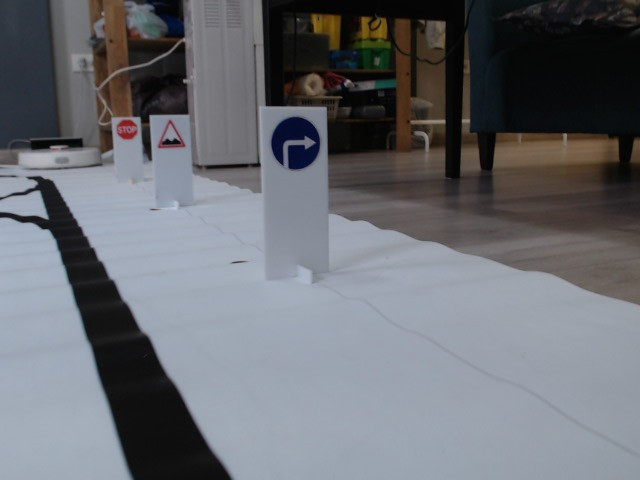Nerov: (158, 119, 186, 149)
Right: (270, 115, 321, 171)
Stop: (115, 119, 138, 141)
